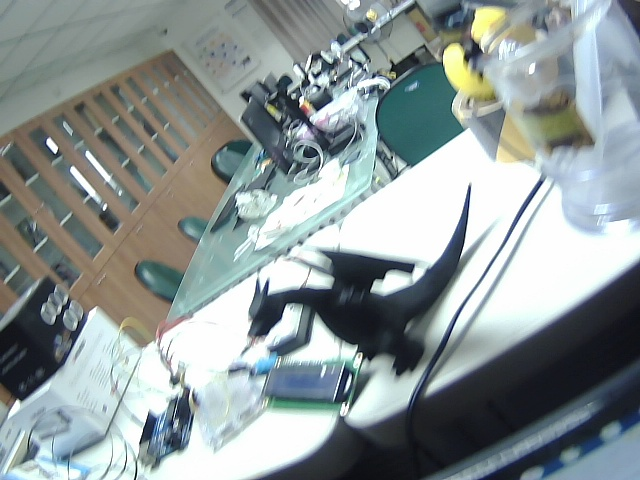charizard: (246, 179, 475, 400)
